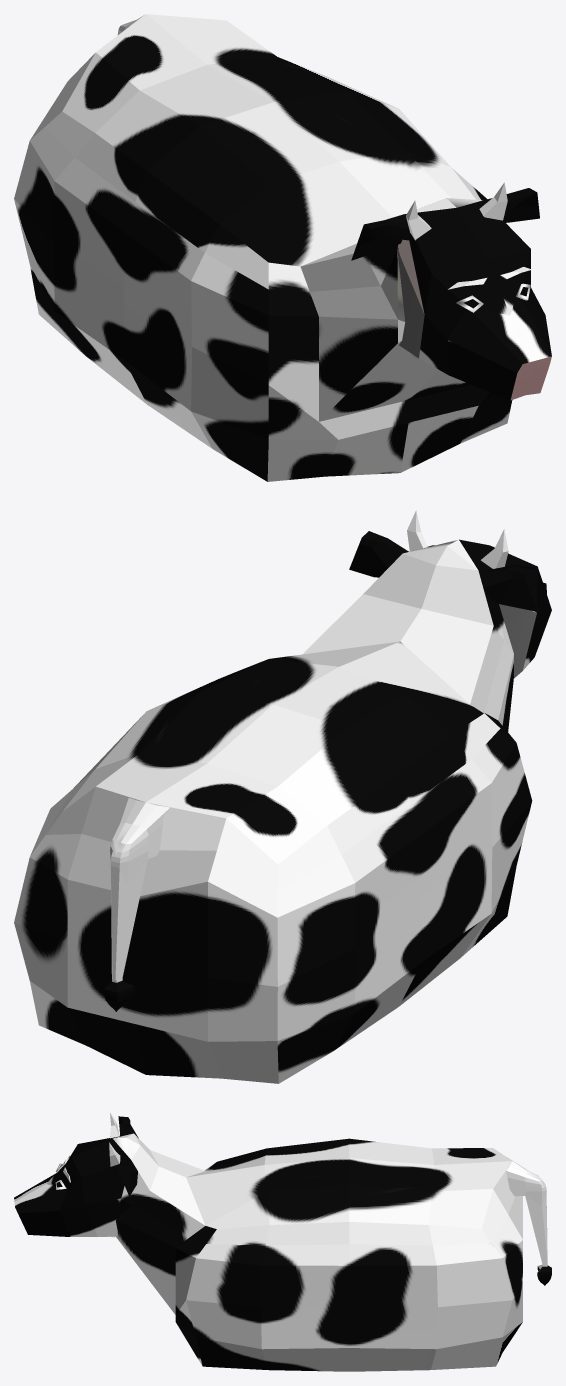
File: CowSiyah.fbx
3 views of the same model, one above another, from view 1: azimuth 30°, elevation 25°; view 2: azimuth 150°, elevation 25°; view 3: azimuth 270°, elevation 25° (orthographic). The views are drawn at different scales.
Visible parts, largest first — view 1: CowSiyah; view 2: CowSiyah; view 3: CowSiyah.
Part boxes in pixels (x1=…): CowSiyah: x1=14, y1=14, x2=551, y2=481; CowSiyah: x1=14, y1=510, x2=551, y2=1083; CowSiyah: x1=14, y1=1113, x2=551, y2=1371.
Bounding box in the file's own units: 2.49 × 2.63 × 5.94.
